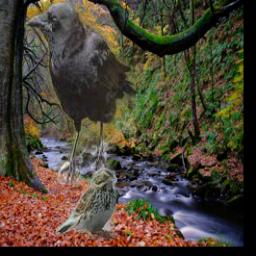Crow: (24, 3, 136, 185)
Sparrow: (56, 169, 117, 240)
